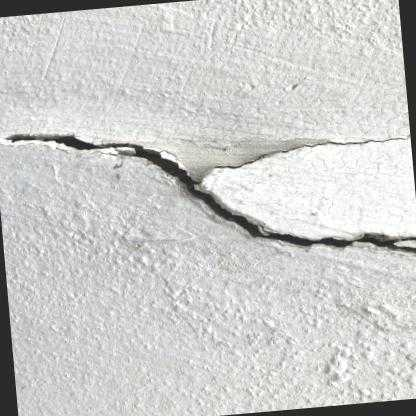crack: (4, 135, 416, 254), (214, 133, 411, 169), (402, 237, 416, 241)
